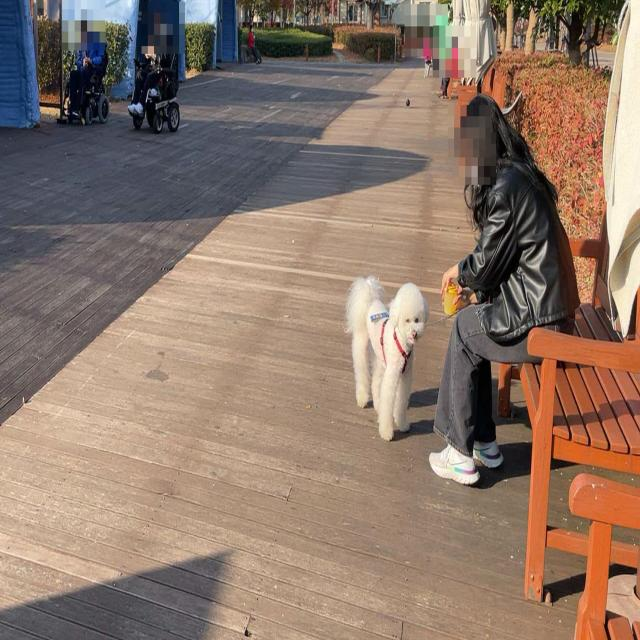Leashed_Dog: (343, 274, 475, 443)
